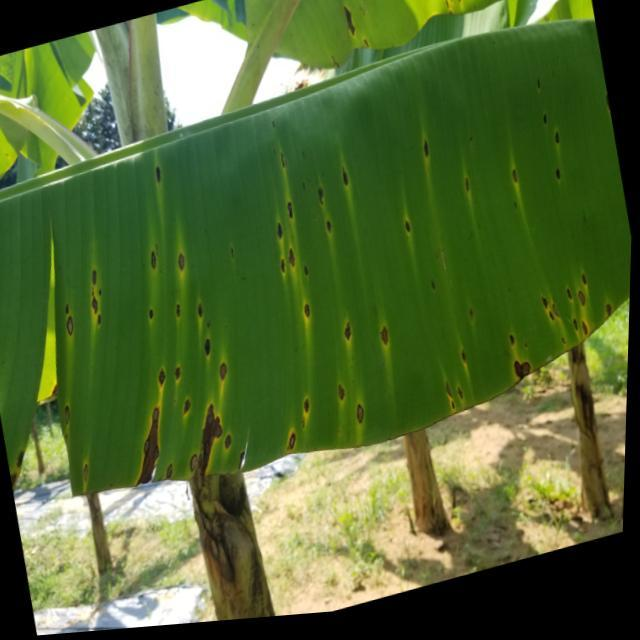Early_rust: (0, 53, 640, 470)
